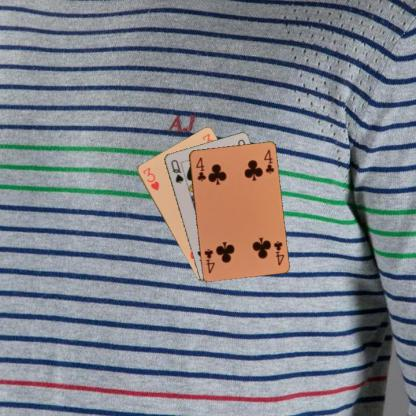3h: (140, 164, 160, 192)
4c: (193, 154, 207, 183), (271, 238, 285, 266)
Qs: (168, 157, 184, 184)
